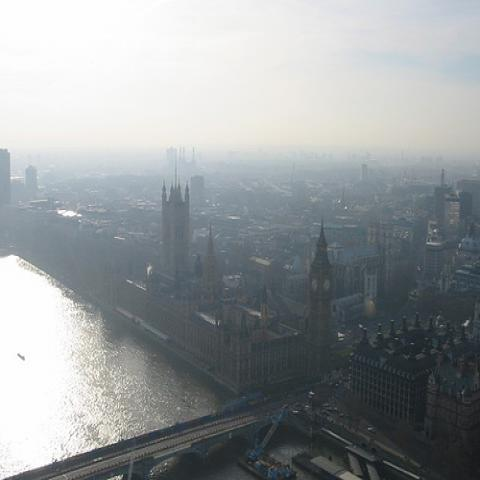car: (326, 407, 332, 410), (339, 413, 343, 416)
